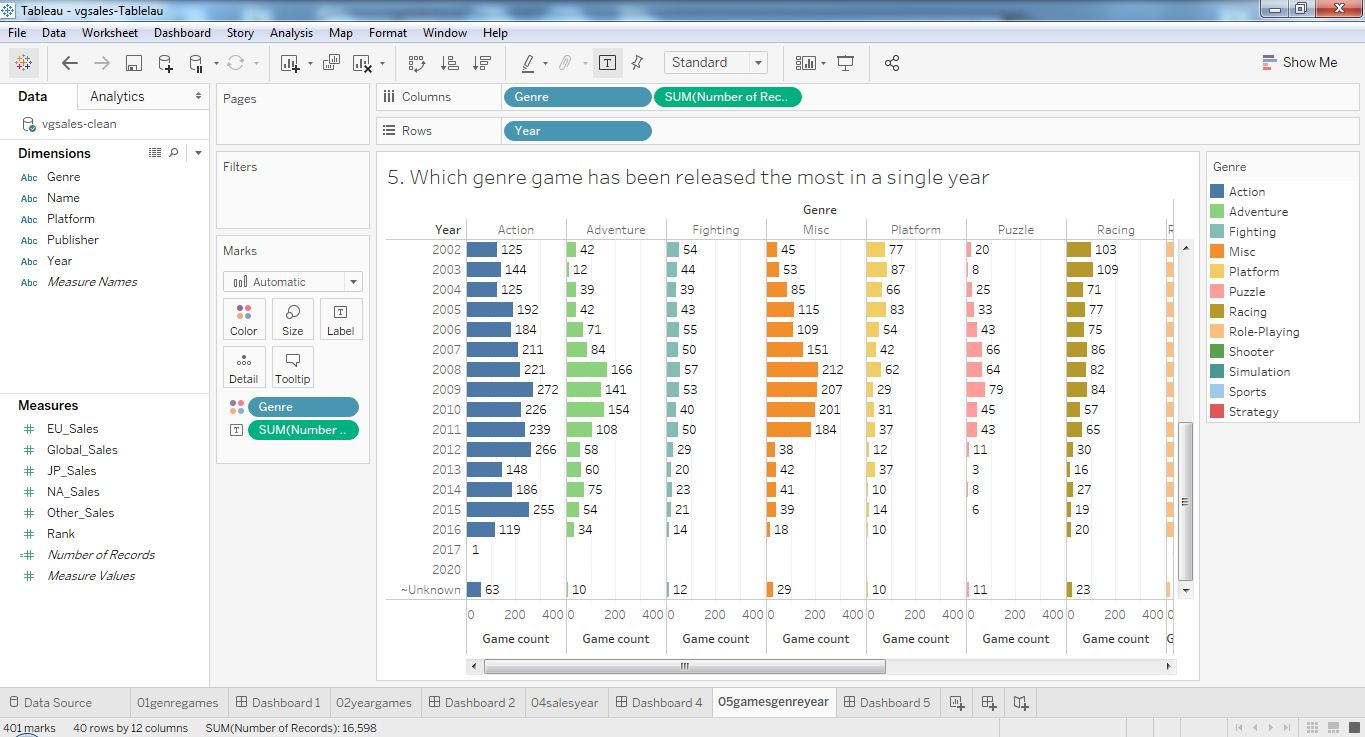

Layout of this report page (visuals, bound fields, positions):
{"tool":"tableau","page":{"name":"Dashboard 5","canvas":[1000,1000],"units":"permille","ordinal":4},"visuals":[{"type":"worksheet","title":"05gamesgenreyear","mark":"Automatic","rows":["F4"],"cols":["F5","Number of Records"],"box":[6.9,12.8,986.1,974.4]}]}

Visuals, with their boxes on the dashboard's canvas, which has no fixed pixel size, in thousandths of its width and height (x1, y1, x2, y2). These are canvas units, not pixel positions in the 1365x737 screenshot, which may show the page scaled, cropped or inside an application window:
"05gamesgenreyear" worksheet: {"left": 7, "top": 13, "right": 993, "bottom": 987}
